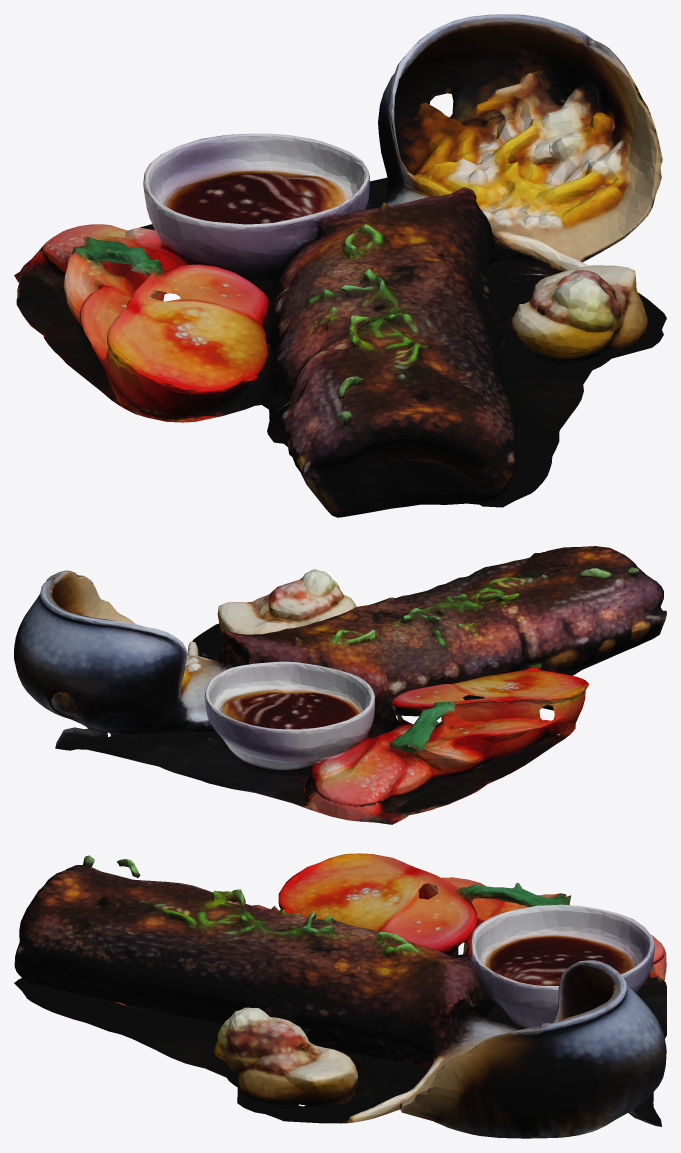
Rendered from aji-de-gallina.glb.
3 renders of one model, top to bottom at view 1: azimuth 30°, elevation 25°; view 2: azimuth 150°, elevation 25°; view 3: azimuth 270°, elevation 25°, orthographic. The views are drawn at different scales.
Visible parts, largest first — view 1: world; view 2: world; view 3: world.
Part boxes in pixels (left/top/right/bottom): world: left=14, top=14, right=666, bottom=517; world: left=14, top=546, right=666, bottom=824; world: left=14, top=853, right=666, bottom=1138.
Size of the model in its own units: 0.2328 by 0.0588 by 0.25.
1 material, 1 textured.
